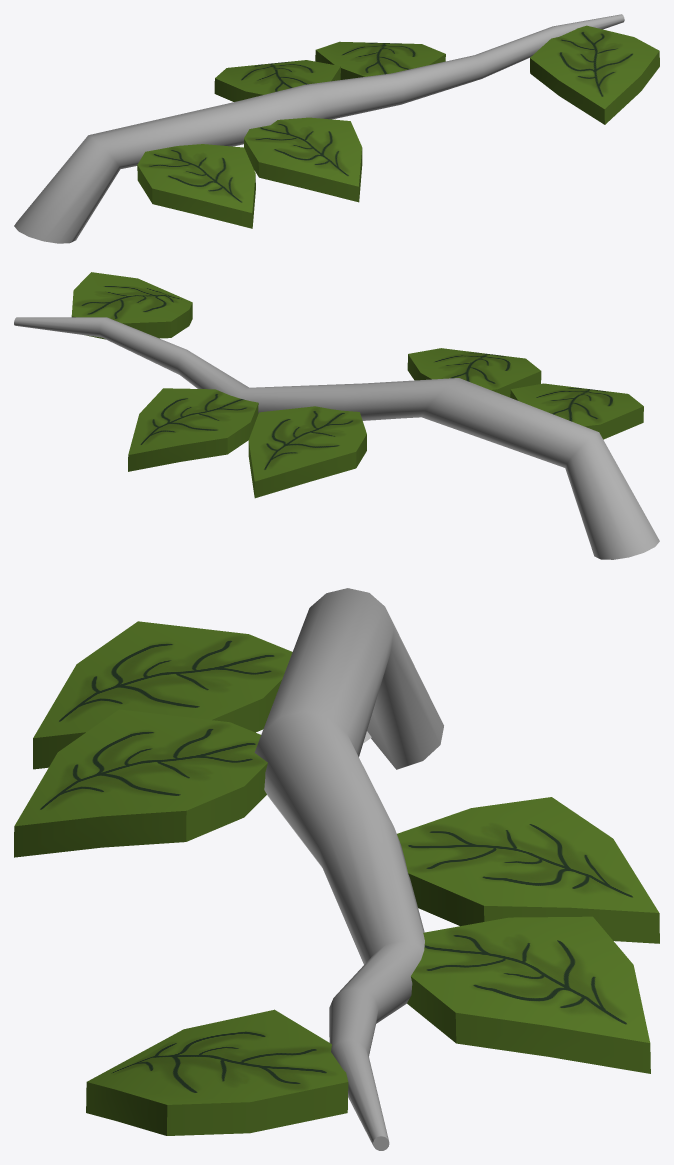
File: VineBridge.fbx
The picture shows the model from 3 angles, top to bottom: view 1: azimuth 30°, elevation 25°; view 2: azimuth 150°, elevation 25°; view 3: azimuth 270°, elevation 25°; orthographic projection. The views are drawn at different scales.
Visible parts, largest first — view 1: polySurface152; view 2: polySurface152; view 3: polySurface152.
Boxes of the visible parts, x1,y1,x2,y2 form: polySurface152: (14, 14, 659, 243); polySurface152: (14, 272, 659, 559); polySurface152: (14, 588, 659, 1150).
Bounding box in the file's own units: 2.37 × 0.3971 × 1.11.
